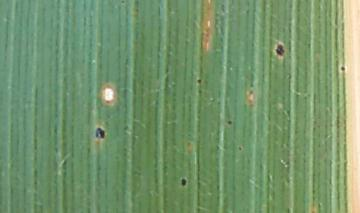tarspot: (273, 41, 285, 58), (94, 126, 105, 141), (179, 177, 188, 188), (338, 65, 346, 73), (225, 119, 233, 127), (219, 3, 226, 12), (195, 77, 202, 84), (306, 42, 311, 51), (196, 88, 202, 95), (236, 146, 242, 152), (285, 207, 291, 213), (120, 1, 125, 4)
